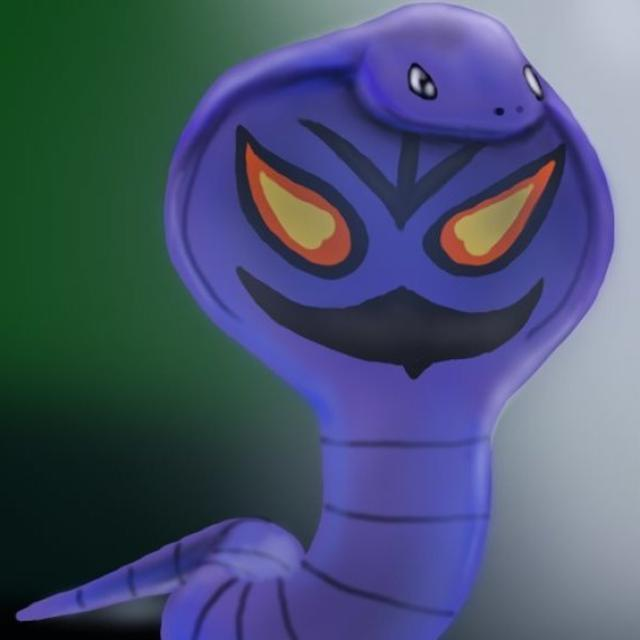Arbok: (161, 0, 621, 640)
